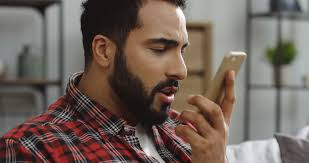middle_eastern_male: (113, 1, 196, 118)
